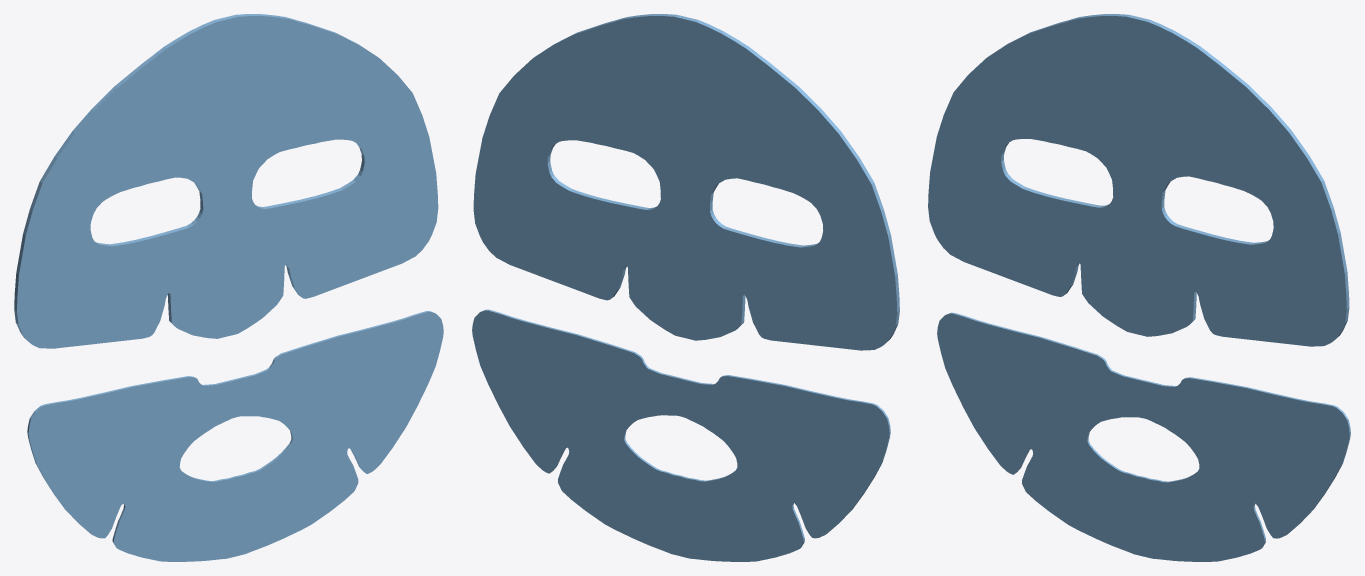
File: cryoHover.glb
The picture shows the model from 3 angles, left to right: view 1: azimuth 30°, elevation 25°; view 2: azimuth 150°, elevation 25°; view 3: azimuth 330°, elevation 25°; orthographic projection.
Parts seen in each view (by area): view 1: 03_UP; view 2: 03_UP; view 3: 03_UP.
Boxes of the visible parts, x1,y1,x2,y2 form: 03_UP: (14, 14, 443, 561); 03_UP: (472, 14, 899, 561); 03_UP: (928, 14, 1350, 561).
Bounding box in the file's own units: 33.48 × 40.44 × 0.5495.
